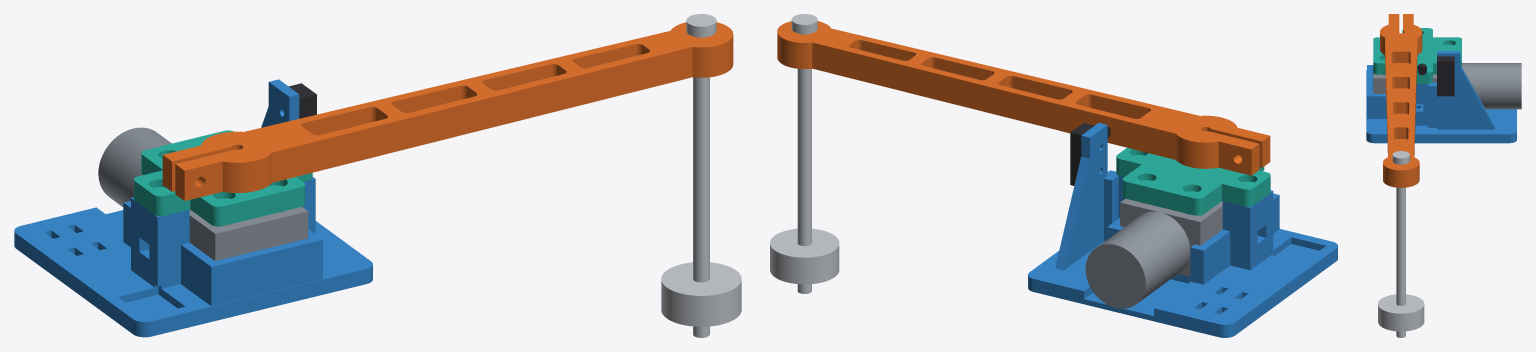
File: d0_motor_assembly.glb
3 renders of one model, left to right at view 1: azimuth 30°, elevation 25°; view 2: azimuth 150°, elevation 25°; view 3: azimuth 270°, elevation 25°, orthographic. The views are drawn at different scales.
Visible parts, largest first — view 1: Part2_LeverArm_ABS, Part1A_Baseplate_PETG, Ghost_M5x100_And_Wheel, Ghost_JGY370_Motor, Part1B_TopCap_PETG, Ghost_LimitSwitch; view 2: Part1A_Baseplate_PETG, Part2_LeverArm_ABS, Ghost_JGY370_Motor, Ghost_M5x100_And_Wheel, Part1B_TopCap_PETG, Ghost_LimitSwitch; view 3: Part1A_Baseplate_PETG, Part2_LeverArm_ABS, Ghost_M5x100_And_Wheel, Ghost_JGY370_Motor, Part1B_TopCap_PETG, Ghost_LimitSwitch.
Boxes of the visible parts, x1,y1,x2,y2 form: Part2_LeverArm_ABS: (162,22,733,200); Part1A_Baseplate_PETG: (14,79,372,337); Ghost_M5x100_And_Wheel: (661,14,741,337); Ghost_JGY370_Motor: (98,127,308,260); Part1B_TopCap_PETG: (134,130,312,226); Ghost_LimitSwitch: (289,83,316,118); Part1A_Baseplate_PETG: (1028,122,1337,337); Part2_LeverArm_ABS: (777,21,1270,175); Ghost_JGY370_Motor: (1085,198,1222,308); Ghost_M5x100_And_Wheel: (770,14,839,293); Part1B_TopCap_PETG: (1116,147,1270,215); Ghost_LimitSwitch: (1070,123,1110,185); Part1A_Baseplate_PETG: (1366,51,1516,143); Part2_LeverArm_ABS: (1380,14,1422,187); Ghost_M5x100_And_Wheel: (1378,151,1424,337); Ghost_JGY370_Motor: (1373,63,1521,109); Part1B_TopCap_PETG: (1373,28,1461,83); Ghost_LimitSwitch: (1417,56,1454,96).
Bounding box in the file's own units: 0.216 × 0.1035 × 0.0803.
